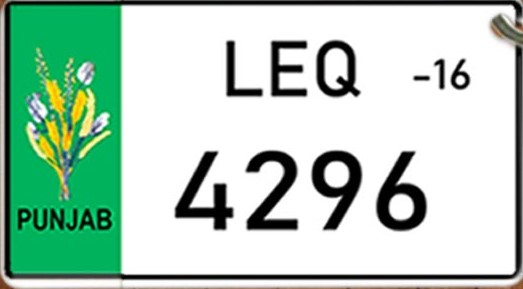1: (433, 55, 450, 89)
2: (243, 148, 306, 232)
4: (172, 148, 238, 231)
6: (373, 147, 432, 232), (451, 56, 474, 91)
9: (310, 147, 364, 232)
E: (268, 37, 310, 98)
L: (221, 36, 265, 99)
Q: (314, 39, 364, 100)
